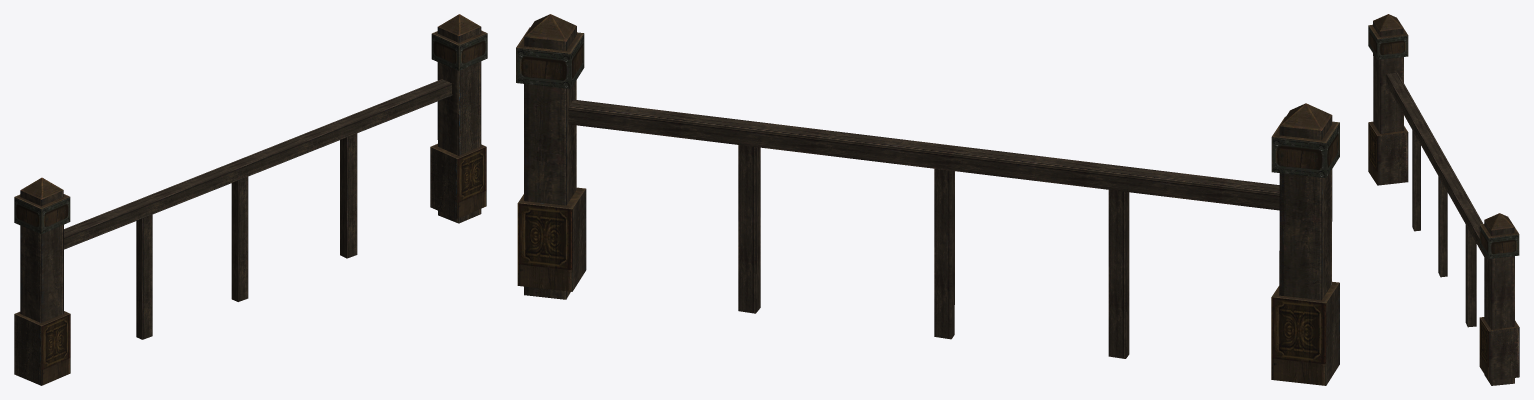
File: rail_crack06.fbx
The picture shows the model from 3 angles, left to right: view 1: azimuth 30°, elevation 25°; view 2: azimuth 150°, elevation 25°; view 3: azimuth 270°, elevation 25°; orthographic projection. The views are drawn at different scales.
Parts seen in each view (by area): view 1: ship_rail_06; view 2: ship_rail_06; view 3: ship_rail_06.
Boxes of the visible parts, x1=… form: ship_rail_06: x1=14, y1=14, x2=487, y2=385; ship_rail_06: x1=516, y1=14, x2=1339, y2=385; ship_rail_06: x1=1368, y1=14, x2=1519, y2=385.
Bounding box in the file's own units: 9.61 × 3.57 × 2.88.
